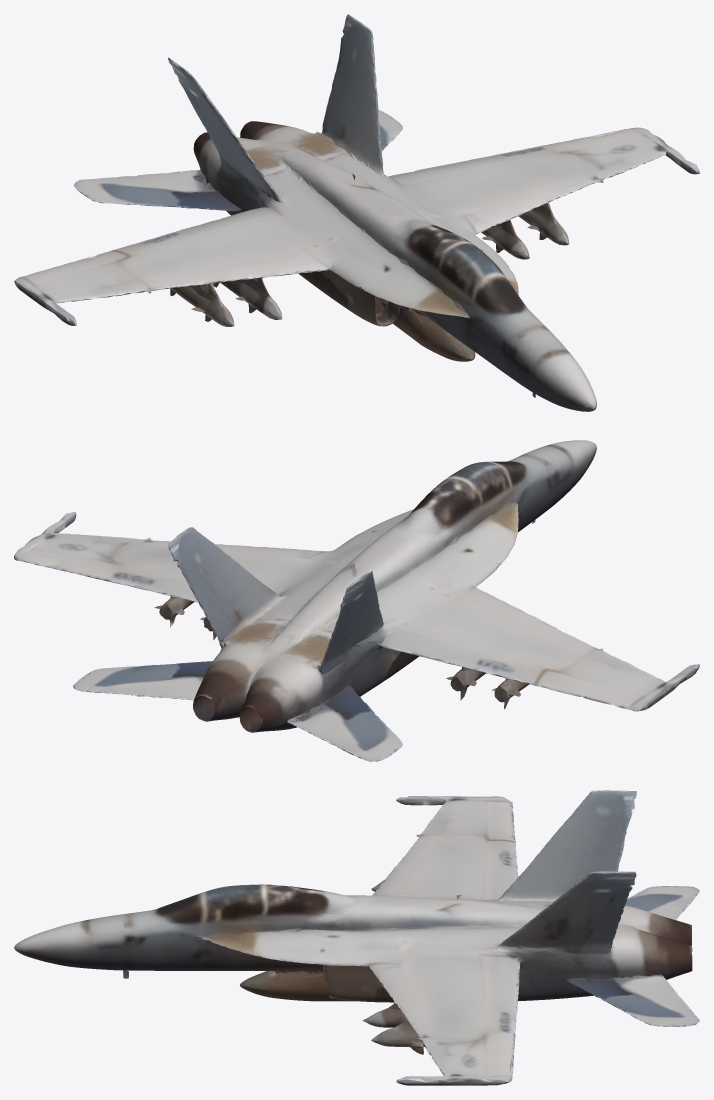
The model's file is FA-18EF_Super_Hornet_AI_Rodin.glb.
The picture shows the model from 3 angles, top to bottom: view 1: azimuth 30°, elevation 25°; view 2: azimuth 150°, elevation 25°; view 3: azimuth 270°, elevation 25°; orthographic projection. The views are drawn at different scales.
Visible parts, largest first — view 1: model; view 2: model; view 3: model.
Part boxes in pixels (x1,y1,x2,y2): model: (14, 14, 699, 411); model: (14, 440, 699, 761); model: (14, 790, 699, 1085).
Size of the model in its own units: 1.86 by 0.5132 by 1.9.
Materials: 1 (1 with a texture image).
